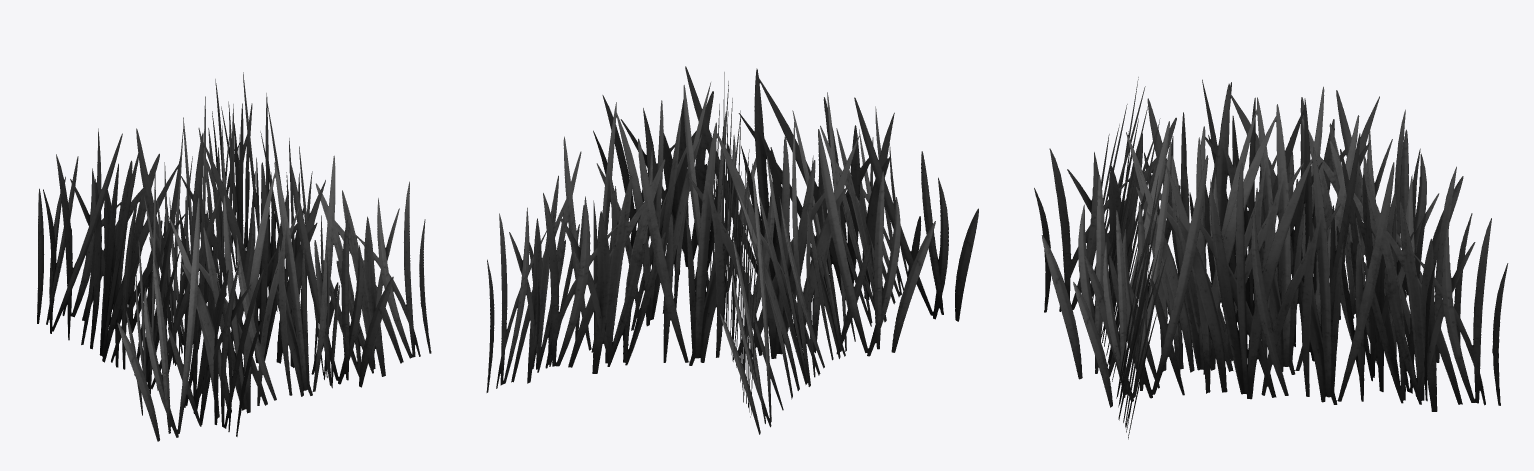
The model's file is good-grass-1.2.glb.
The picture shows the model from 3 angles, left to right: view 1: azimuth 30°, elevation 25°; view 2: azimuth 150°, elevation 25°; view 3: azimuth 270°, elevation 25°; orthographic projection. The views are drawn at different scales.
Visible parts, largest first — view 1: mid-material; view 2: mid-material; view 3: mid-material.
Boxes of the visible parts, x1,y1,x2,y2 form: mid-material: (37, 72, 431, 441); mid-material: (486, 66, 978, 434); mid-material: (1034, 77, 1508, 439).
Bounding box in the file's own units: 1.01 × 0.6861 × 1.11.
Materials: 1 (1 with a texture image).
